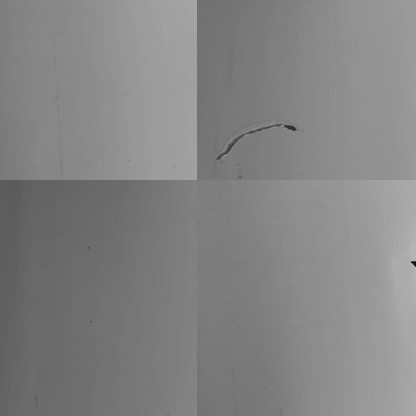fengxi: (211, 120, 303, 167)
